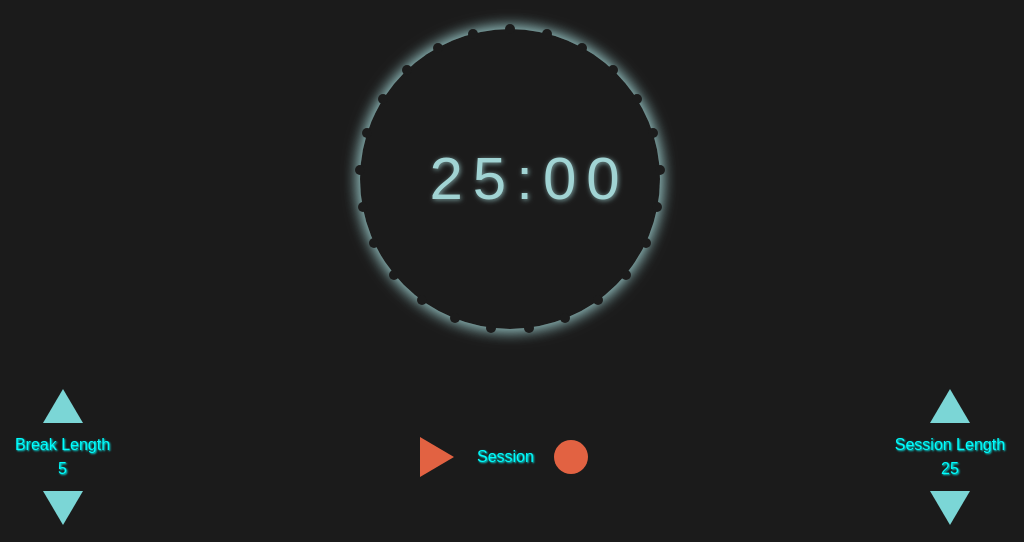
When I click the element with the id of "break-increment", the value within id="break-length" increments by a value of 1, and I can see the updated value
Click the element with id "break-increment" at point(62, 406), box [42,389,82,423]
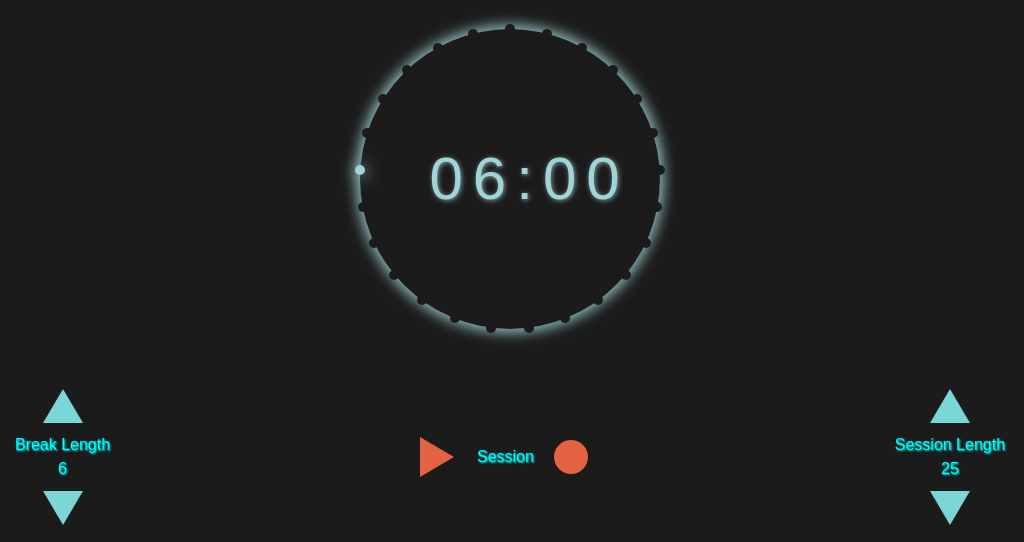
Expected: the text with id "break-length" reads "6", [58,460,67,477]
